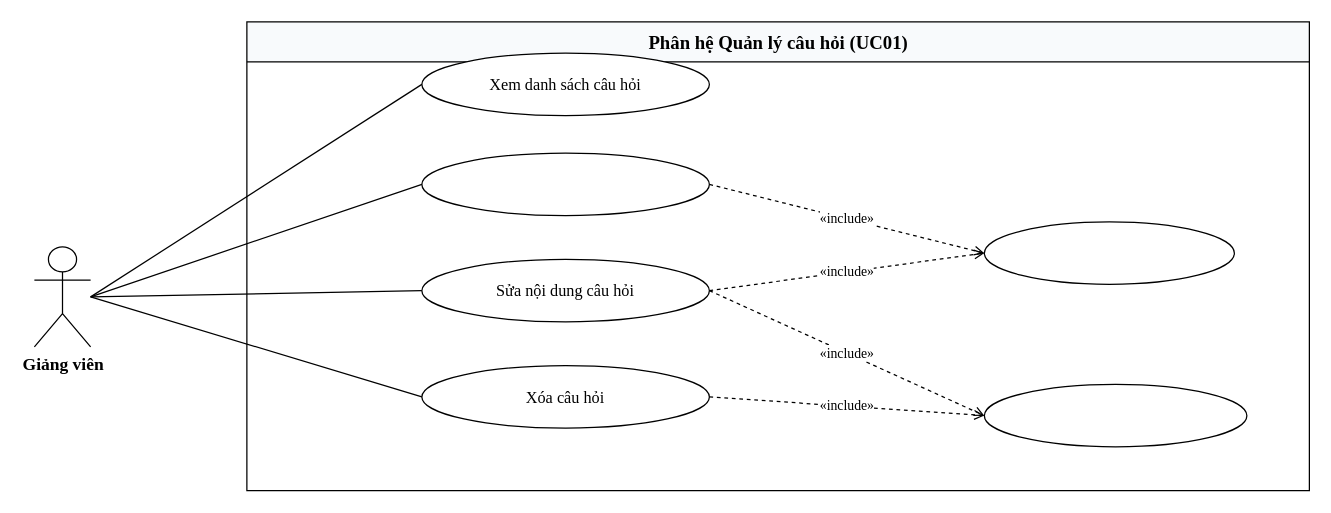
The diagram is 1331 pixels wide and 513 high, and some of its shapes have lost their labels. Here are the shapes that lost their labels. From the top down, the centre of each, then its label:
At (x=565, y=184): "Thêm câu hỏi mới".
At (x=1108, y=252): "Nhập đáp án đúng".
At (x=1115, y=415): "Kiểm tra chưa thuộc đề thi (QĐ1)".
